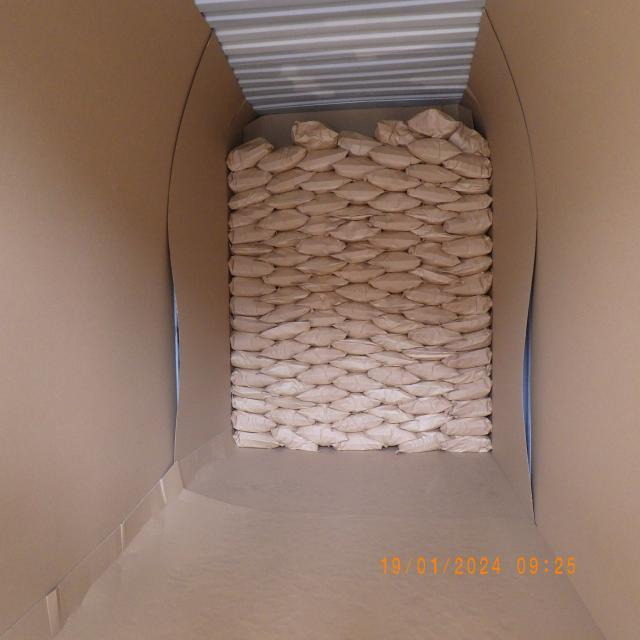gunny_bag: (226, 136, 274, 172), (406, 136, 461, 165), (407, 108, 459, 138), (448, 122, 492, 157), (408, 239, 460, 268), (257, 145, 307, 173), (270, 424, 320, 452), (368, 144, 421, 170), (366, 169, 422, 193), (406, 182, 462, 206), (292, 121, 338, 150), (402, 282, 457, 306), (297, 422, 347, 448), (364, 422, 416, 447), (442, 153, 492, 179), (296, 192, 350, 216), (368, 250, 422, 274), (445, 208, 493, 235), (228, 201, 274, 229), (372, 119, 418, 147), (298, 147, 349, 172), (332, 156, 383, 181), (442, 271, 493, 296), (443, 376, 493, 401), (268, 168, 316, 194), (338, 130, 382, 158), (334, 181, 383, 206), (257, 208, 310, 231), (403, 304, 458, 326), (404, 204, 459, 226), (442, 234, 492, 258), (258, 339, 312, 361), (332, 262, 386, 284), (332, 372, 386, 394), (368, 272, 422, 294), (368, 191, 422, 213), (408, 324, 462, 346), (334, 282, 389, 303), (296, 214, 346, 237), (332, 242, 384, 264), (372, 313, 424, 335), (440, 347, 492, 369), (370, 293, 424, 314), (404, 360, 458, 381), (444, 328, 493, 351), (295, 235, 346, 257), (398, 431, 449, 453), (368, 212, 424, 232), (330, 220, 380, 242), (399, 412, 454, 432), (410, 262, 460, 284), (437, 193, 492, 213), (442, 255, 492, 277), (296, 364, 348, 385), (332, 412, 384, 433), (440, 294, 492, 315), (228, 168, 273, 192), (368, 230, 422, 250), (399, 395, 453, 415), (406, 164, 460, 184), (262, 265, 311, 287), (443, 363, 492, 385), (260, 321, 311, 342), (296, 327, 347, 348), (362, 403, 413, 424), (293, 346, 346, 366), (369, 332, 422, 352), (264, 189, 316, 209), (259, 304, 311, 324), (264, 407, 316, 427), (296, 256, 348, 276), (298, 384, 350, 404), (298, 404, 350, 424), (333, 319, 385, 339), (330, 393, 382, 413), (364, 385, 416, 405), (368, 366, 420, 386), (231, 410, 276, 433), (301, 172, 350, 193), (410, 224, 464, 243), (259, 247, 310, 267), (331, 336, 382, 356), (441, 313, 492, 333), (228, 187, 272, 210), (230, 255, 274, 278), (228, 223, 276, 244), (328, 355, 384, 373), (260, 286, 310, 306), (297, 291, 347, 311), (335, 301, 385, 321), (399, 380, 454, 398), (264, 378, 316, 397), (332, 432, 384, 451), (298, 274, 348, 293), (451, 396, 494, 418), (259, 360, 311, 378), (440, 177, 492, 195), (440, 418, 492, 436), (230, 277, 276, 297), (369, 350, 420, 368), (298, 309, 346, 328), (230, 296, 275, 316), (444, 435, 493, 453), (230, 331, 274, 351), (402, 344, 457, 360), (260, 230, 308, 248), (330, 204, 380, 221), (232, 396, 278, 414), (266, 394, 316, 410), (233, 431, 280, 448), (232, 370, 276, 388), (231, 352, 276, 369), (231, 317, 276, 332), (232, 385, 274, 399), (230, 243, 275, 256)
